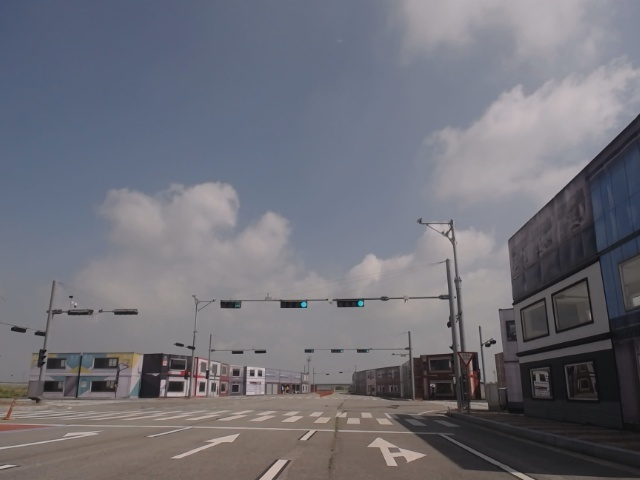straight_green_4: (337, 297, 367, 309), (281, 300, 307, 310)
